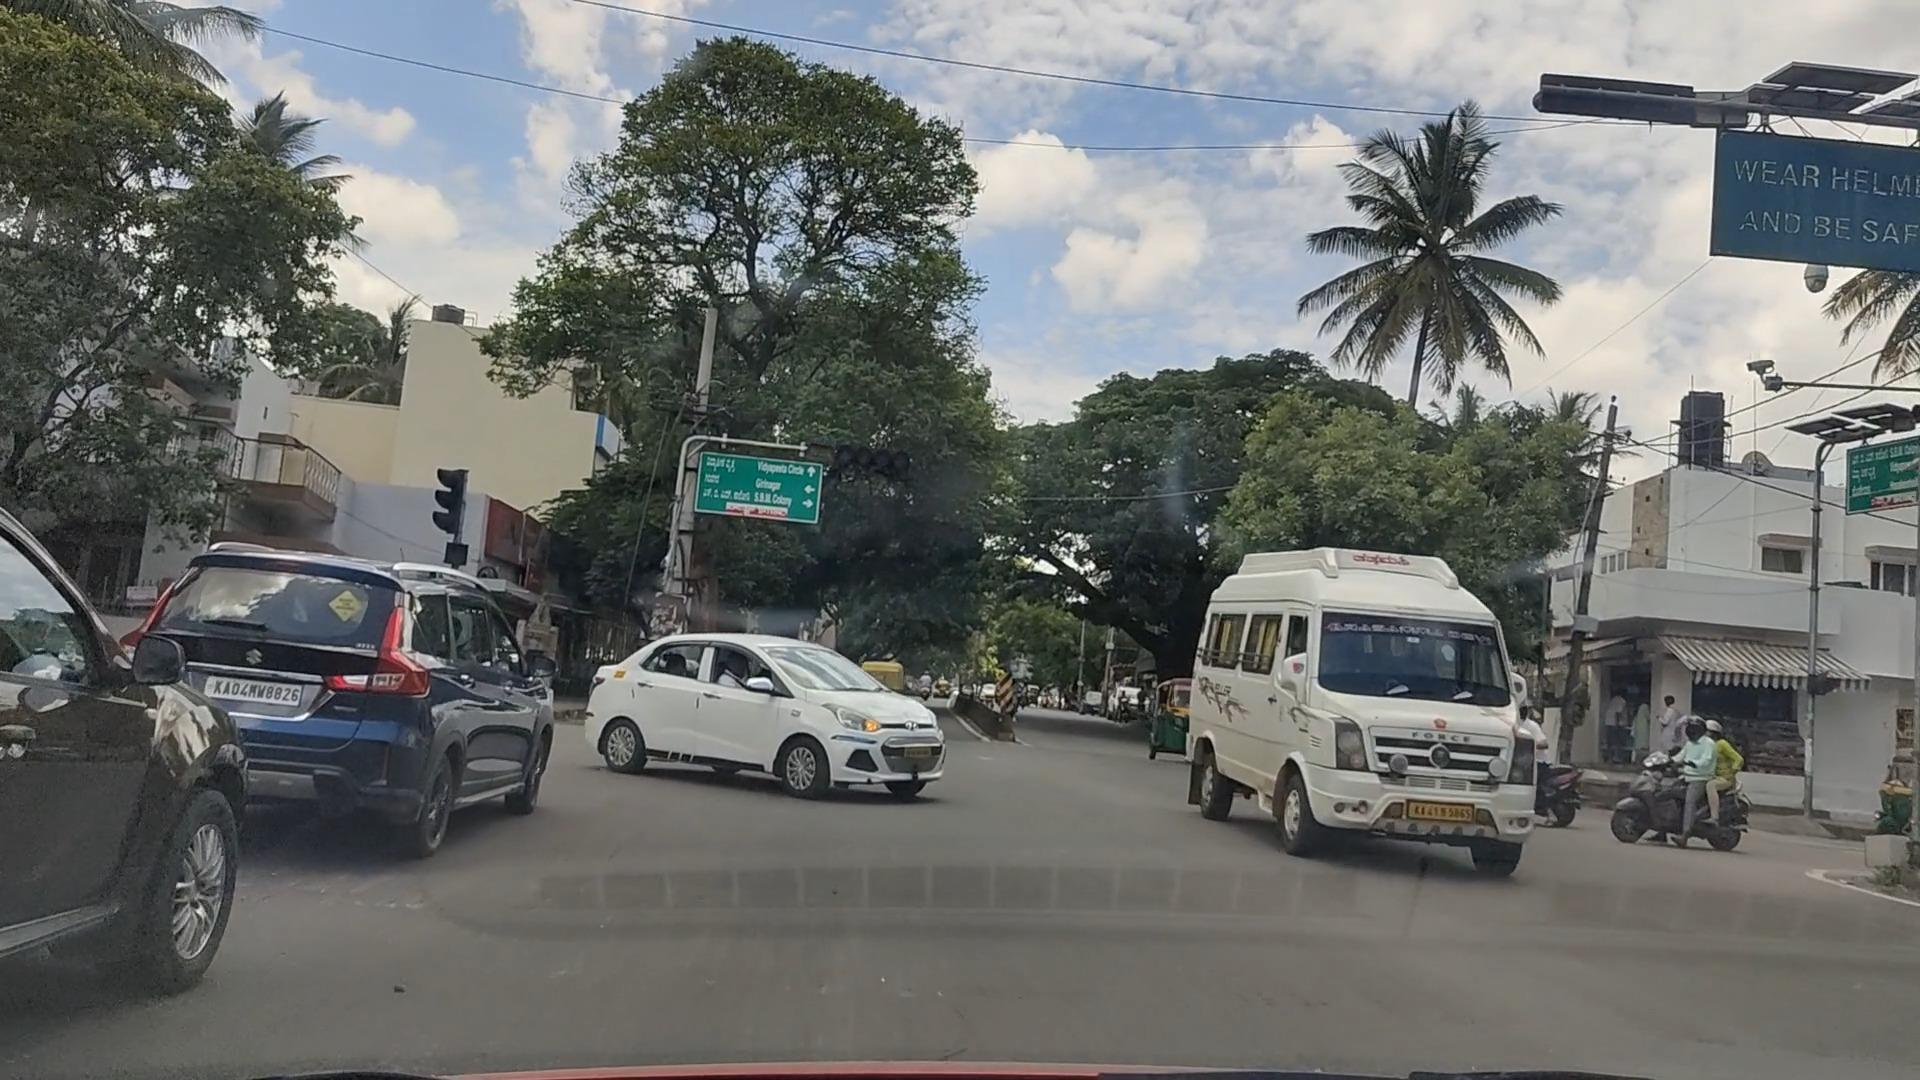LMV: (22, 521, 257, 964), (208, 543, 566, 831), (585, 628, 945, 812)
